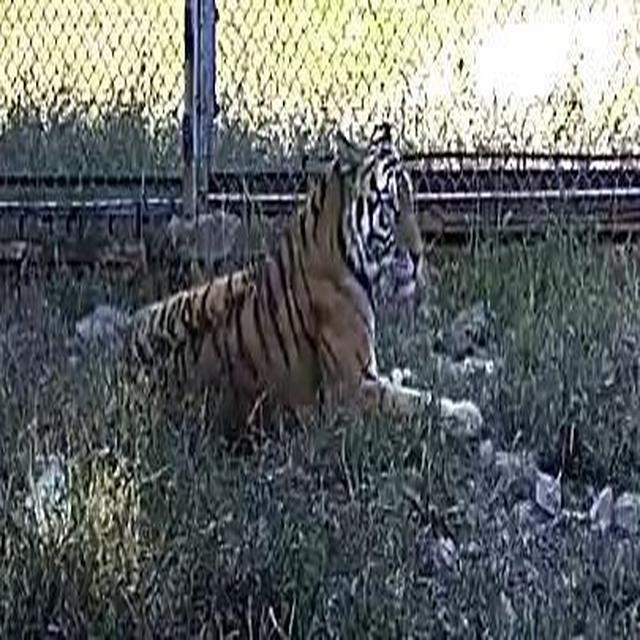tiger: (106, 113, 496, 468)
